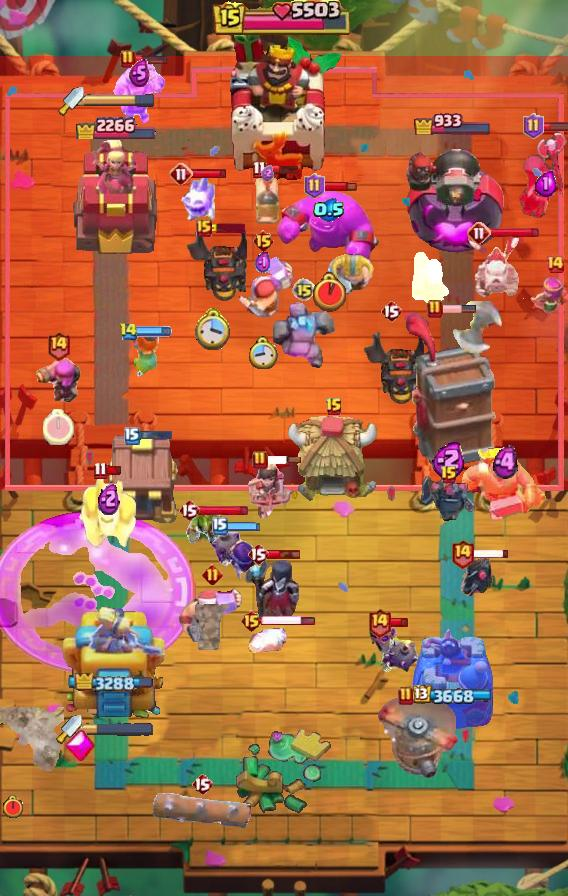archer: (520, 277, 568, 321)
axe: (449, 301, 515, 353)
bar: (261, 614, 316, 627), (198, 504, 249, 517), (489, 226, 540, 239), (266, 548, 302, 560), (322, 180, 357, 192), (134, 53, 169, 65), (473, 548, 510, 559), (191, 168, 228, 179), (136, 326, 172, 337), (264, 164, 300, 175), (226, 521, 261, 532), (138, 430, 173, 441), (266, 455, 302, 465), (441, 304, 477, 314), (209, 223, 245, 233), (541, 121, 568, 132), (390, 617, 409, 628), (106, 465, 123, 476)
bar-level: (367, 607, 392, 638), (450, 538, 475, 569), (46, 330, 71, 361), (292, 278, 316, 302), (467, 221, 491, 245), (169, 162, 193, 186), (240, 609, 263, 633), (252, 229, 275, 253), (304, 173, 325, 199), (523, 113, 544, 139), (191, 772, 213, 796), (247, 542, 269, 566), (178, 498, 200, 522), (380, 299, 402, 323), (202, 564, 223, 585), (545, 254, 565, 274), (119, 322, 138, 341), (440, 465, 458, 485), (325, 397, 343, 417), (398, 686, 414, 706), (252, 450, 268, 470), (427, 299, 443, 319), (120, 49, 136, 69), (212, 517, 228, 535), (124, 427, 140, 445), (196, 219, 212, 237), (93, 461, 108, 480), (252, 160, 267, 179)
barbarian-evolution: (112, 60, 166, 126)
bomber-evolution: (366, 619, 420, 675), (211, 526, 257, 584)
cannoneer-tower: (401, 138, 505, 256)
clock: (195, 306, 233, 350), (313, 272, 346, 312), (43, 409, 74, 445), (248, 336, 278, 369), (2, 795, 24, 819)
dagger-duchess-tower: (60, 607, 168, 731), (70, 138, 158, 256)
dagger-duchess-tower-bar: (82, 722, 154, 736), (84, 93, 156, 107)
dirt: (0, 707, 64, 776), (192, 604, 230, 650)
elite-barbarian: (327, 252, 375, 295)
elixir: (432, 440, 467, 478), (493, 445, 518, 480), (313, 198, 345, 222), (98, 481, 120, 515), (535, 170, 557, 197), (129, 59, 150, 87), (255, 251, 271, 275), (261, 165, 274, 181)
evolution-symbol: (63, 729, 95, 763)
firecracker: (32, 352, 84, 406), (410, 249, 452, 307)
goblin: (185, 506, 225, 546)
golemite: (273, 296, 335, 372)
ice-spirit-evolution: (178, 172, 218, 224)
king-tower: (224, 23, 344, 181)
king-tower-bar: (213, 0, 355, 38)
lava-pup: (248, 626, 290, 656)
lumberjack: (179, 585, 245, 649), (231, 255, 295, 321)
mega-minion: (79, 475, 139, 553)
mini-pekka: (418, 475, 480, 523), (458, 551, 496, 601)
night-witch: (516, 131, 568, 223), (243, 557, 299, 629)
princess: (246, 460, 296, 518)
queen-tower: (411, 627, 495, 731)
royal-hog: (251, 174, 283, 228)
the-log: (153, 793, 251, 829)
tower-bar: (73, 111, 156, 139), (413, 110, 493, 135), (413, 685, 494, 706), (75, 673, 153, 694)
valkyrie: (126, 328, 164, 380)
